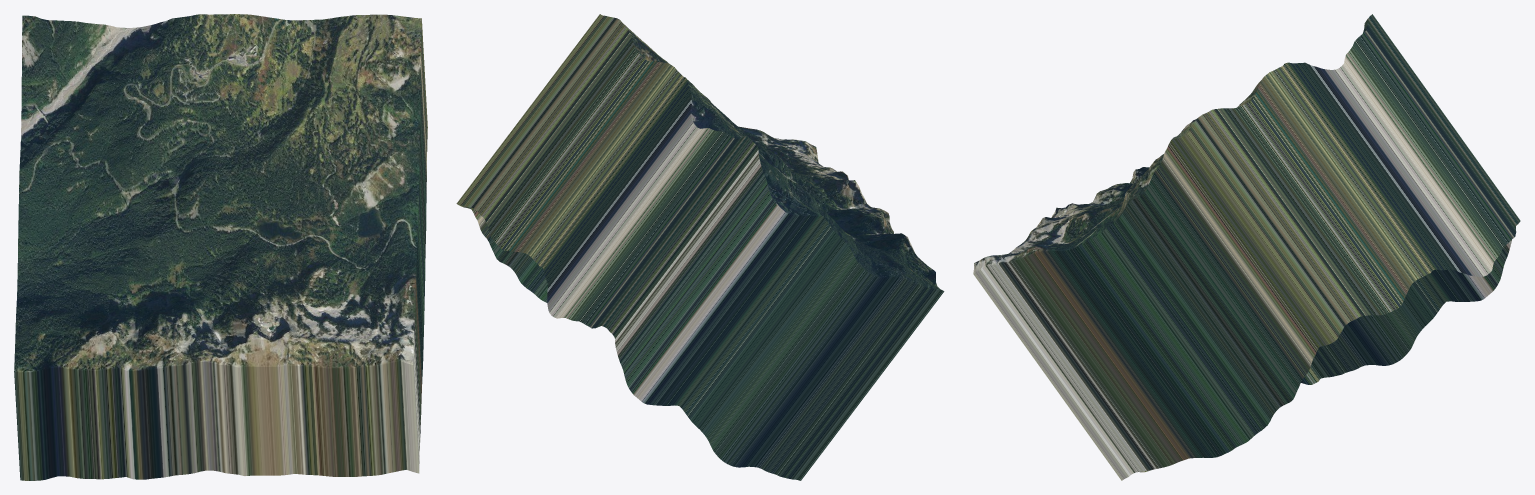
3 renders of one model, left to right at view 1: azimuth 30°, elevation 25°; view 2: azimuth 150°, elevation 25°; view 3: azimuth 270°, elevation 25°, orthographic. The views are drawn at different scales.
Bounding box in the file's own units: 5999 × 5039 × 6450.
Materials: 1 (1 with a texture image).
